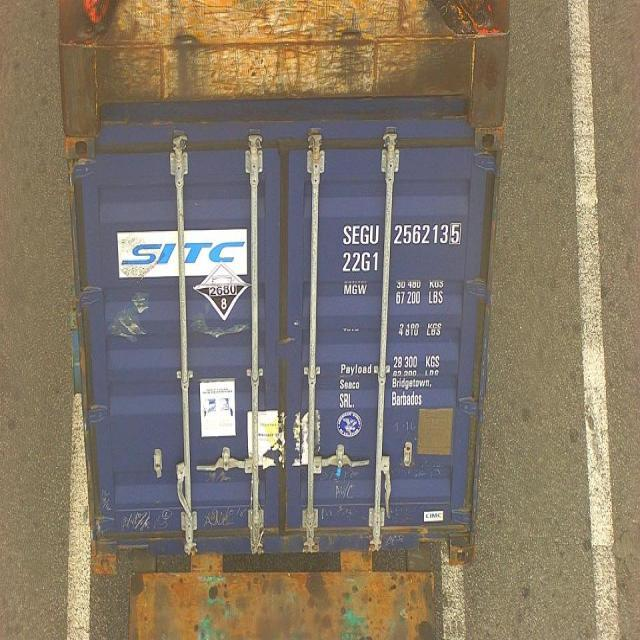ISO: (344, 250, 379, 273)
container_number: (342, 222, 462, 244)
